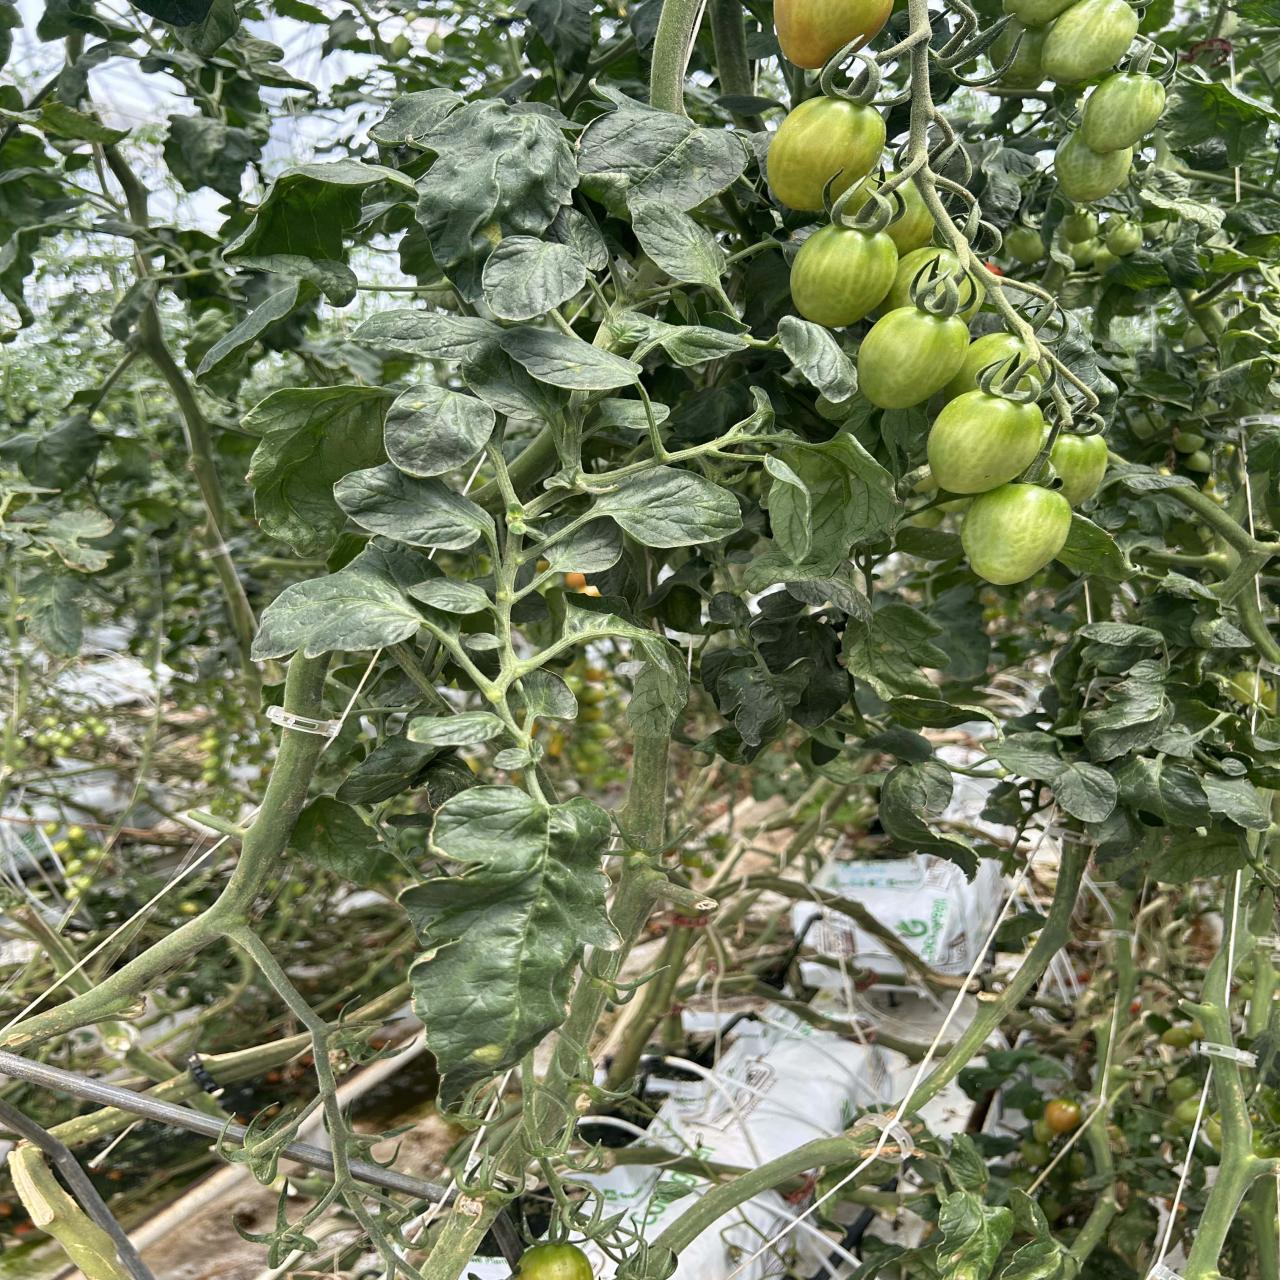Rugose stem: (894, 876, 1078, 1119), (655, 1125, 883, 1254), (611, 638, 688, 954), (1182, 1055, 1275, 1280), (1198, 934, 1233, 1046)
Rugose tomato: (774, 0, 893, 69)
